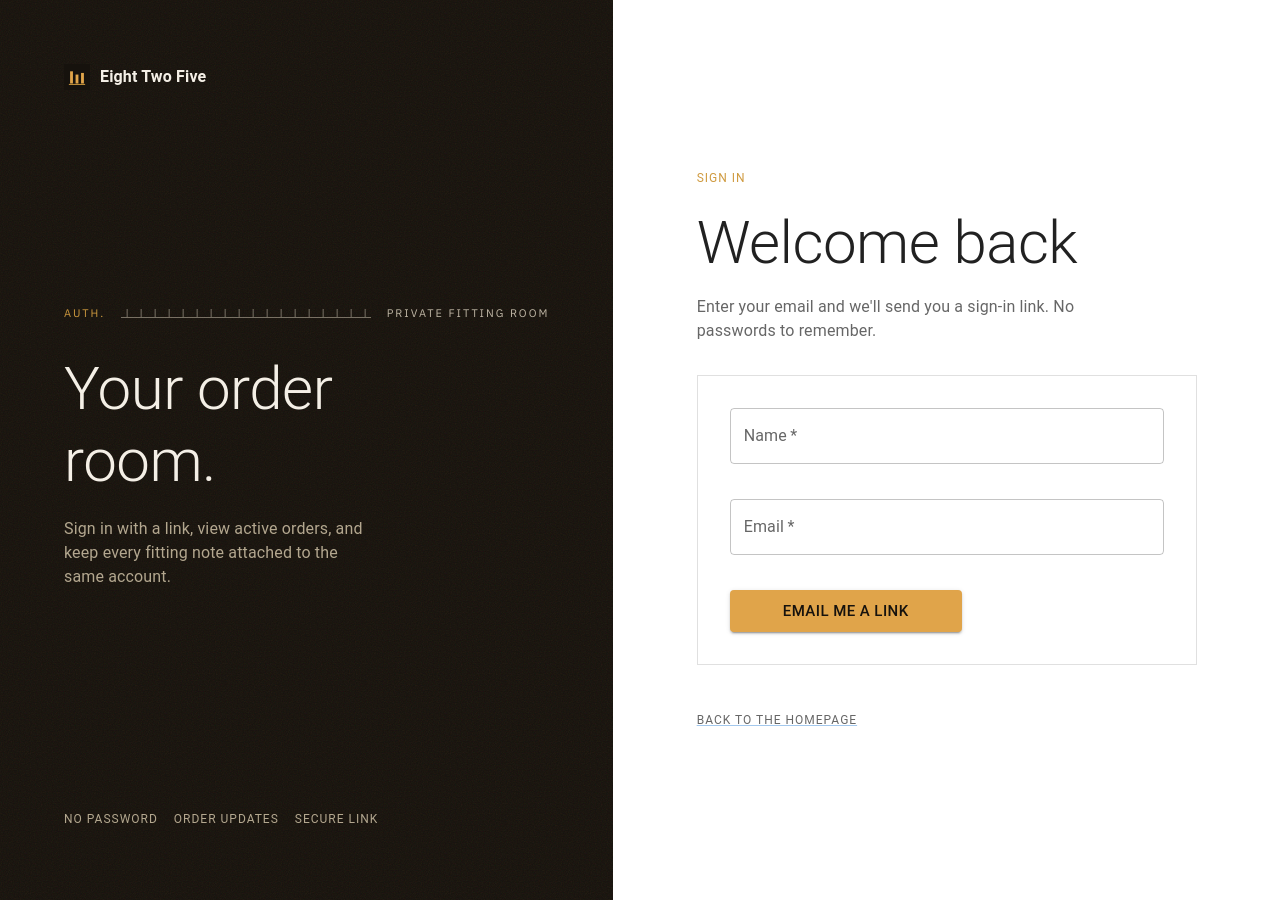
LoginPage › shows a server error when the request fails
Type "Ama" into the field labelled "Name *" at (947, 436), box [730,408,1164,464]
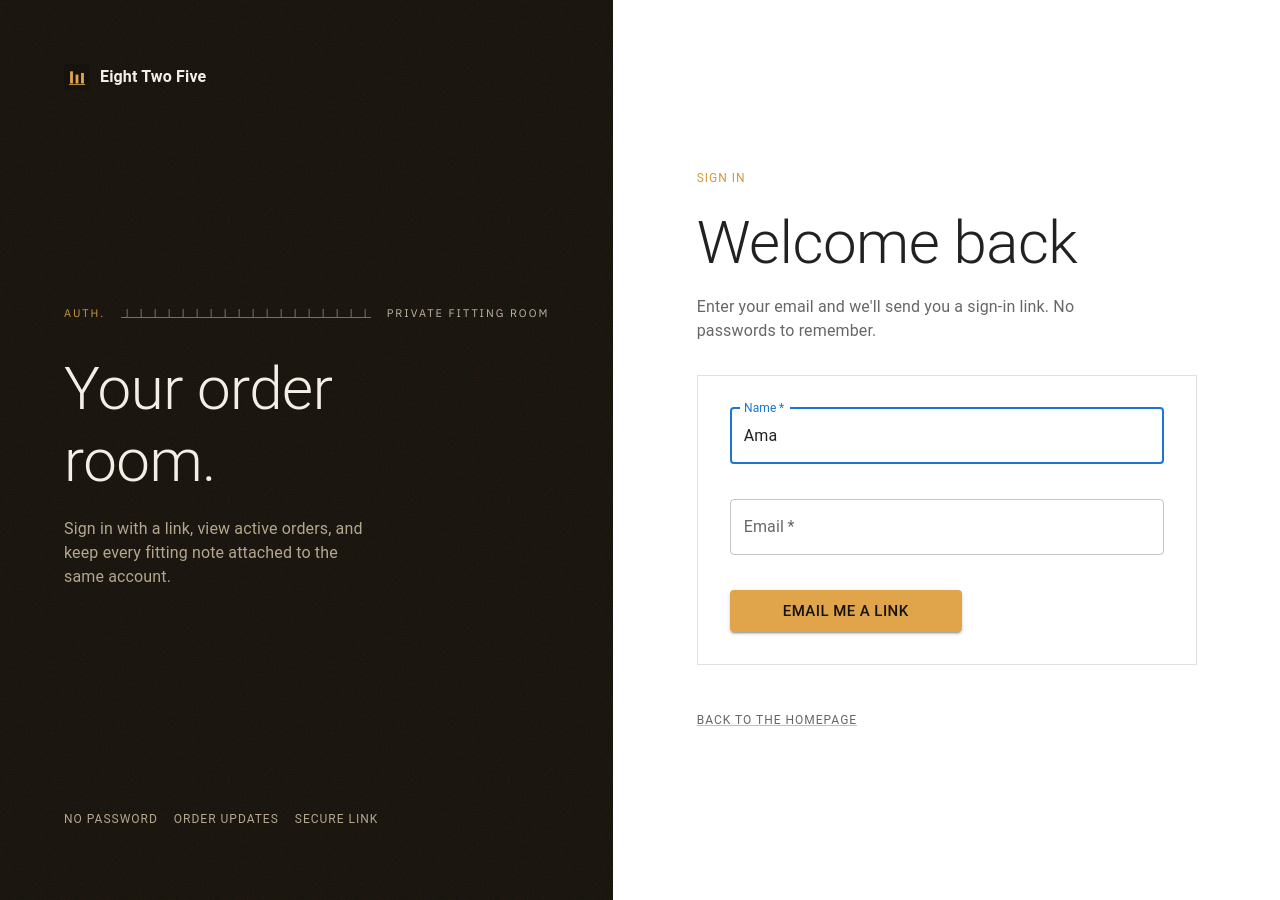
Type "ama@example.com" into the field labelled "Email *" at (947, 527), box [730,499,1164,555]
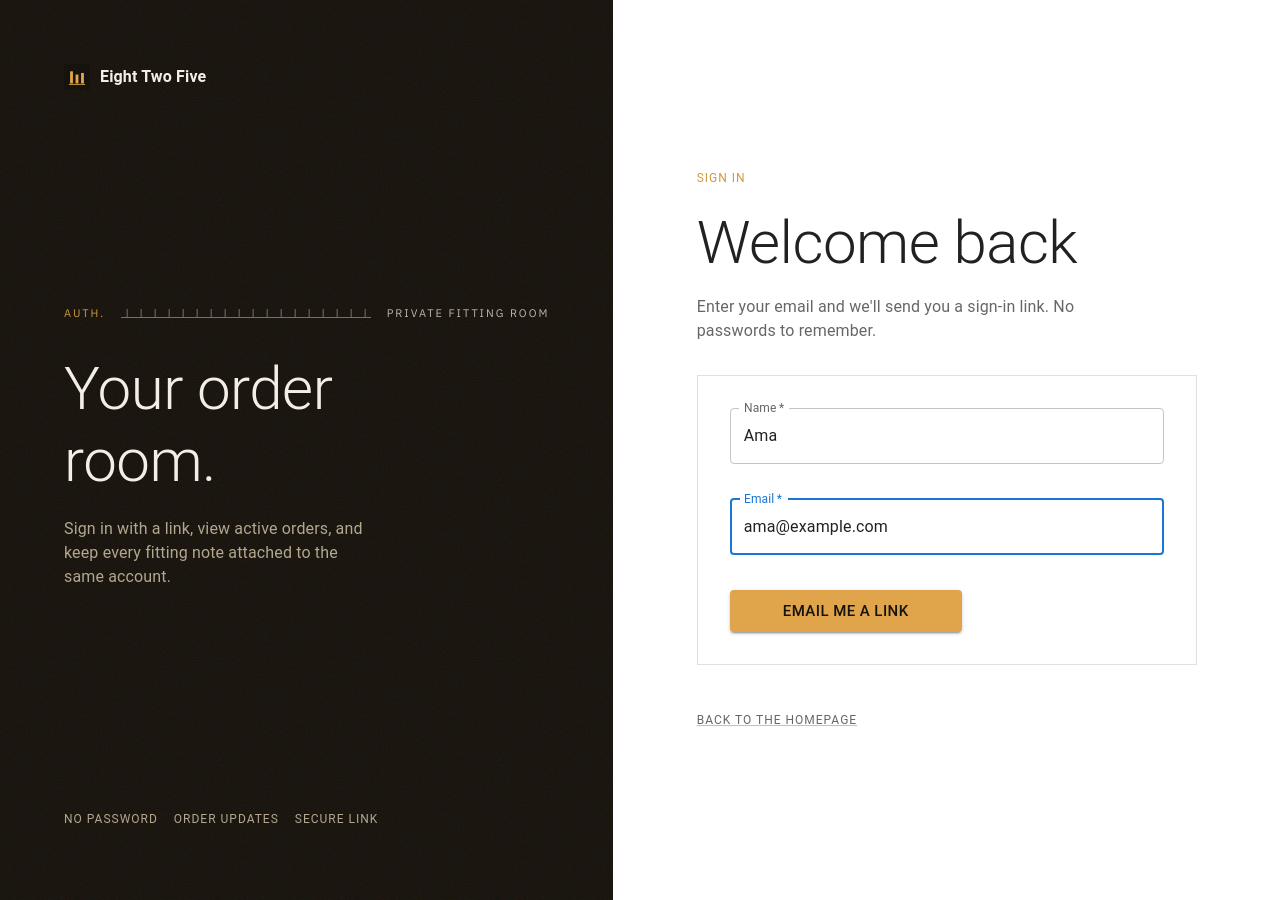
Click the button "Email me a link" at (846, 611), box [730,590,962,632]
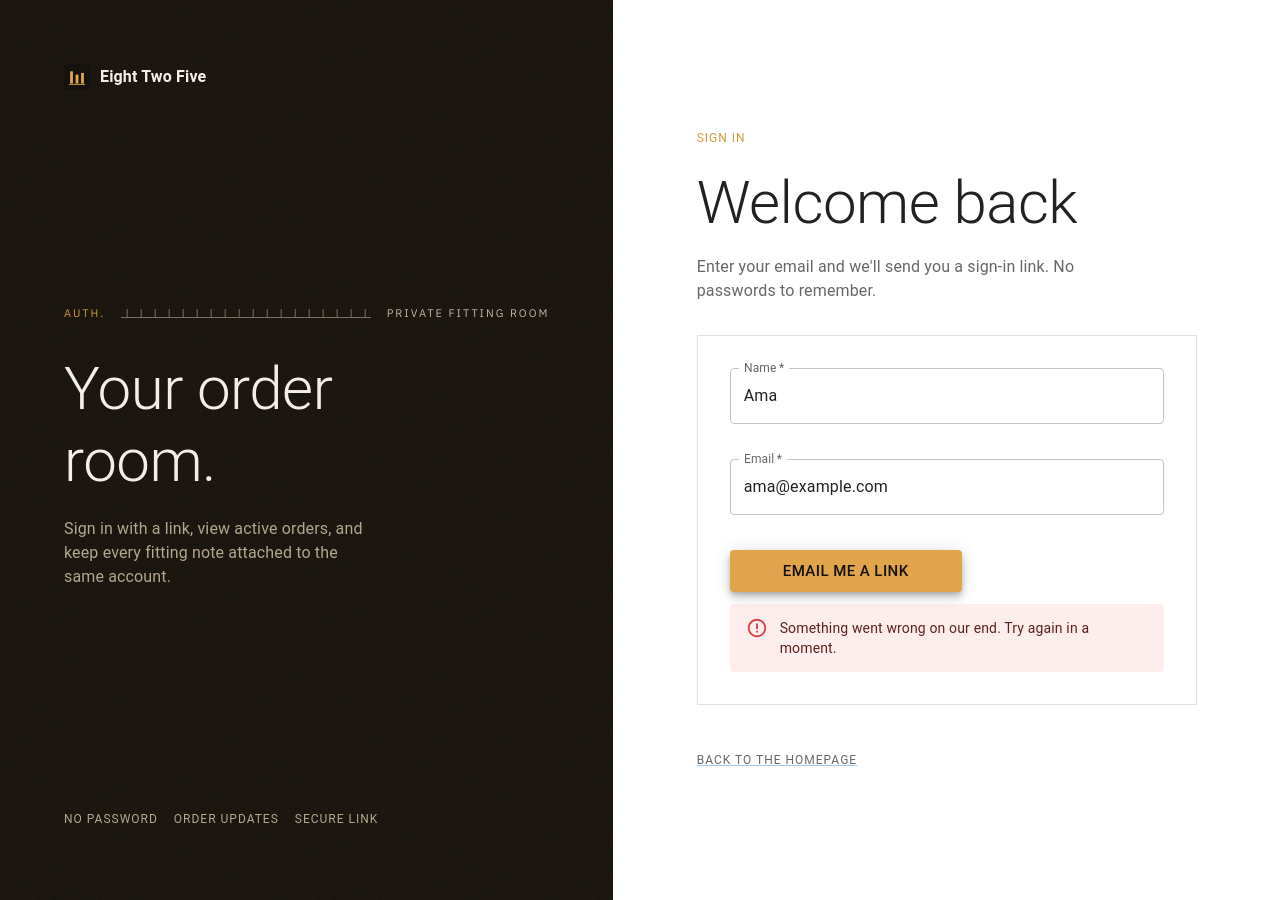
Result: the text "Something went wrong on our end. Try again in a moment." is shown at [780,620,1089,656]
